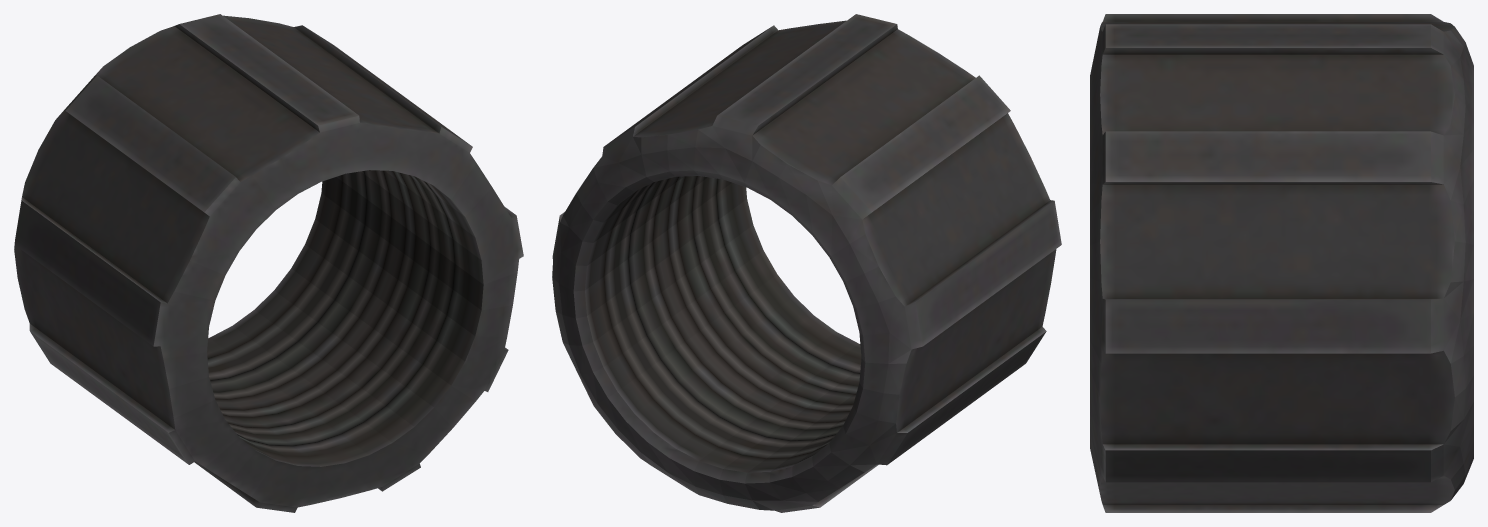
3 views of the same model, side by side, from view 1: azimuth 30°, elevation 25°; view 2: azimuth 150°, elevation 25°; view 3: azimuth 270°, elevation 25° (orthographic). The views are drawn at different scales.
Visible parts, largest first — view 1: TW_5d270ca28abbc31ee25ee821_PZ_Import; view 2: TW_5d270ca28abbc31ee25ee821_PZ_Import; view 3: TW_5d270ca28abbc31ee25ee821_PZ_Import.
Part boxes in pixels (left/top/right/bottom): TW_5d270ca28abbc31ee25ee821_PZ_Import: left=14, top=14, right=523, bottom=512; TW_5d270ca28abbc31ee25ee821_PZ_Import: left=552, top=14, right=1061, bottom=512; TW_5d270ca28abbc31ee25ee821_PZ_Import: left=1090, top=14, right=1473, bottom=512.
Size of the model in its own units: 0.0115 by 0.00878 by 0.0113.
Materials: 1 (1 with a texture image).
